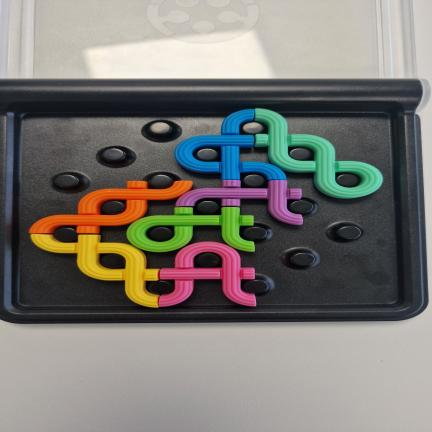A_Yellow: (31, 234, 159, 307)
B_SkyBlue: (175, 110, 287, 180)
F_Teal: (254, 109, 382, 198)
G_Pink: (159, 242, 256, 306), (149, 122, 171, 135)
H_Purple: (176, 180, 303, 225)
I_Orange: (30, 181, 192, 234)
K_YellowGreen: (127, 207, 254, 252)
board: (0, 79, 427, 323)
hinge: (5, 80, 417, 106)
pin: (148, 280, 174, 295), (53, 226, 77, 242), (101, 200, 126, 215), (147, 227, 173, 241), (149, 174, 173, 189), (54, 174, 78, 189), (244, 279, 268, 294), (242, 226, 267, 240), (100, 254, 125, 268), (336, 173, 360, 187), (289, 200, 313, 214), (337, 226, 361, 240), (197, 253, 221, 267), (102, 148, 125, 162), (291, 253, 315, 266), (197, 200, 219, 214), (289, 148, 313, 160), (149, 122, 171, 135), (196, 148, 218, 161), (243, 122, 264, 135), (243, 175, 265, 187)
